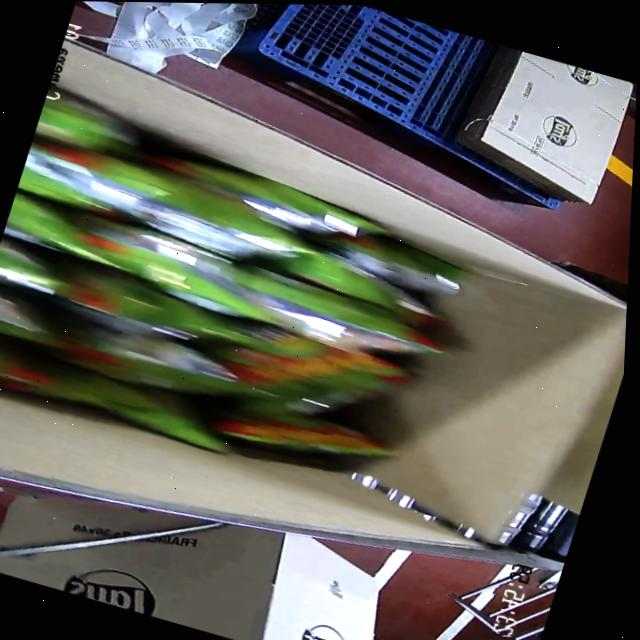YOGURT_HERB: (0, 78, 496, 500)
